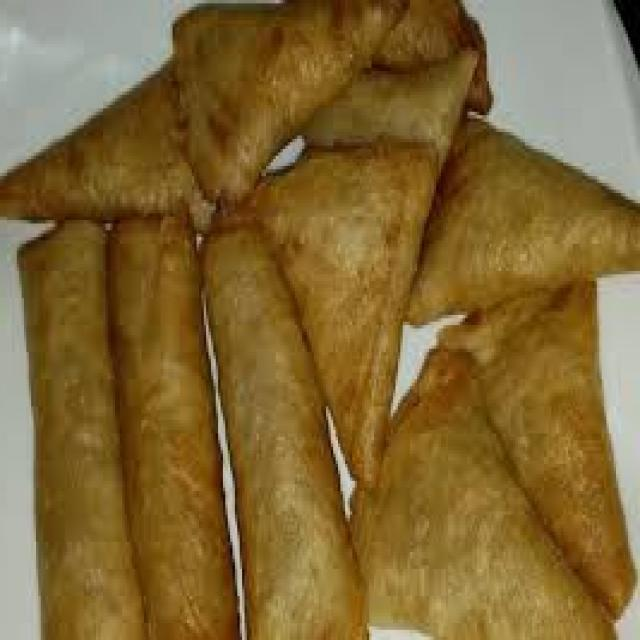Samosa: (350, 125, 638, 637), (28, 0, 488, 218)
Spring Rolls: (36, 213, 328, 637)
